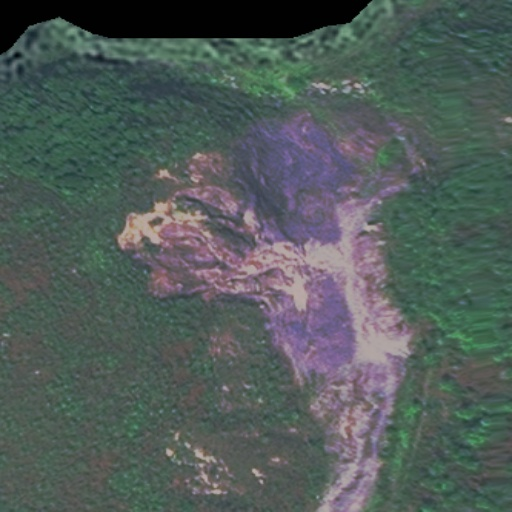landslide: (116, 150, 418, 496)
